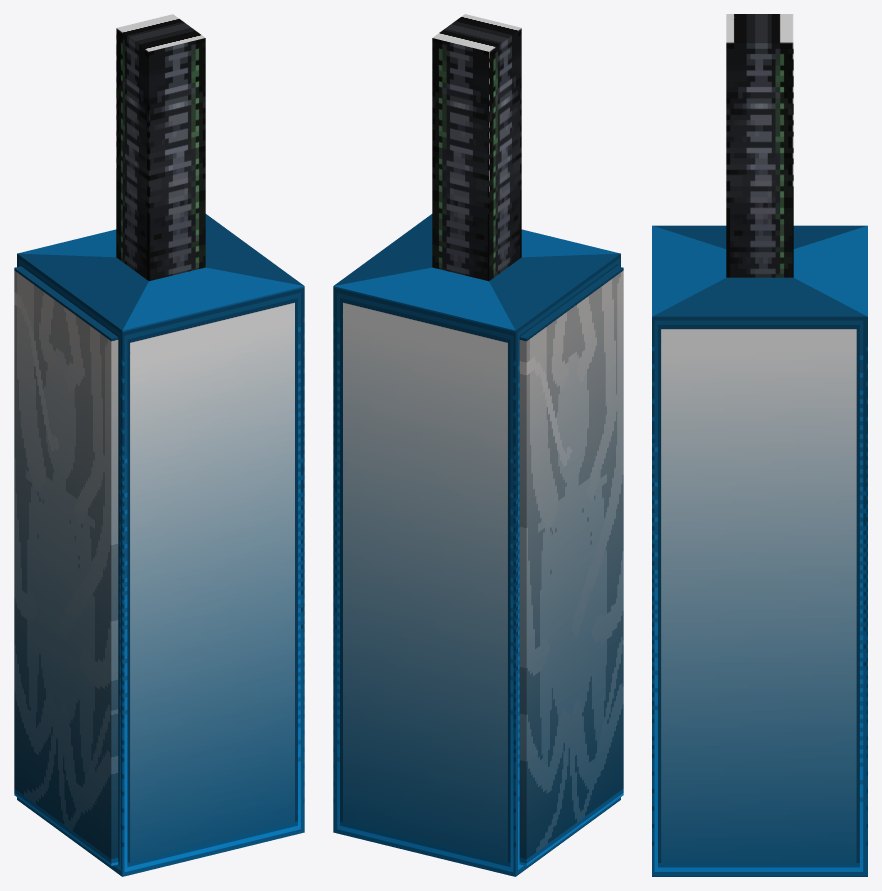
File: TesttubeBaby.glb
3 views of the same model, side by side, from view 1: azimuth 30°, elevation 25°; view 2: azimuth 150°, elevation 25°; view 3: azimuth 270°, elevation 25° (orthographic). The views are drawn at different scales.
Visible parts, largest first — view 1: Cube.004; view 2: Cube.004; view 3: Cube.004.
Part boxes in pixels (bbox=[...]): Cube.004: bbox=[14, 14, 304, 876]; Cube.004: bbox=[333, 14, 623, 876]; Cube.004: bbox=[652, 14, 867, 876].
Bounding box in the file's own units: 2.08 × 8.21 × 2.
3 materials, 3 textured.
